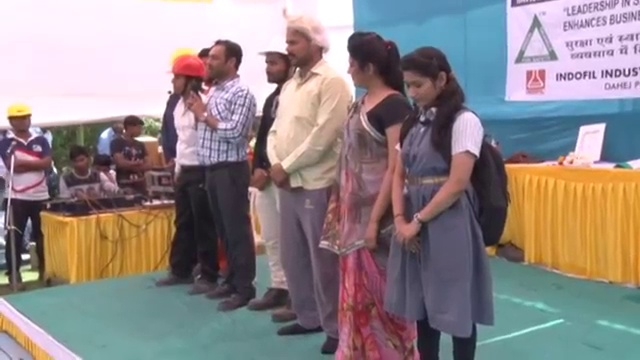helmet: (160, 54, 210, 80), (256, 37, 287, 58), (5, 103, 33, 122)
helmet_off: (342, 29, 399, 100), (397, 43, 453, 114), (277, 18, 330, 67), (201, 40, 242, 86), (69, 146, 90, 175), (90, 155, 115, 177), (123, 118, 144, 141), (111, 117, 126, 136)
helmet_on: (162, 51, 209, 103), (256, 37, 288, 87), (5, 104, 33, 141)
person: (389, 46, 509, 360), (265, 11, 351, 337), (336, 27, 415, 359), (188, 40, 252, 307), (247, 38, 300, 327), (156, 51, 211, 299), (0, 102, 51, 294), (58, 144, 148, 201), (110, 119, 152, 188), (95, 118, 125, 160)
